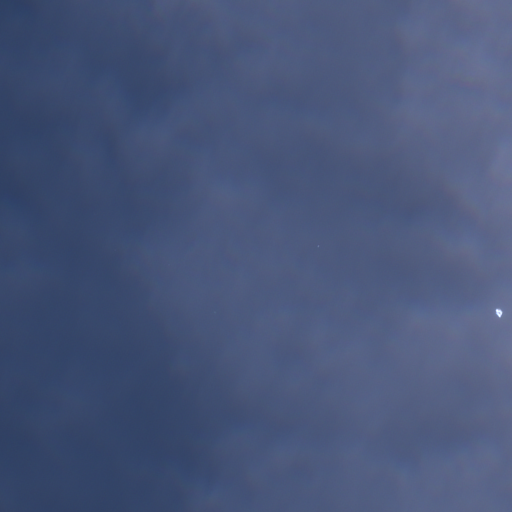Iceberg: (496, 309, 502, 317)
